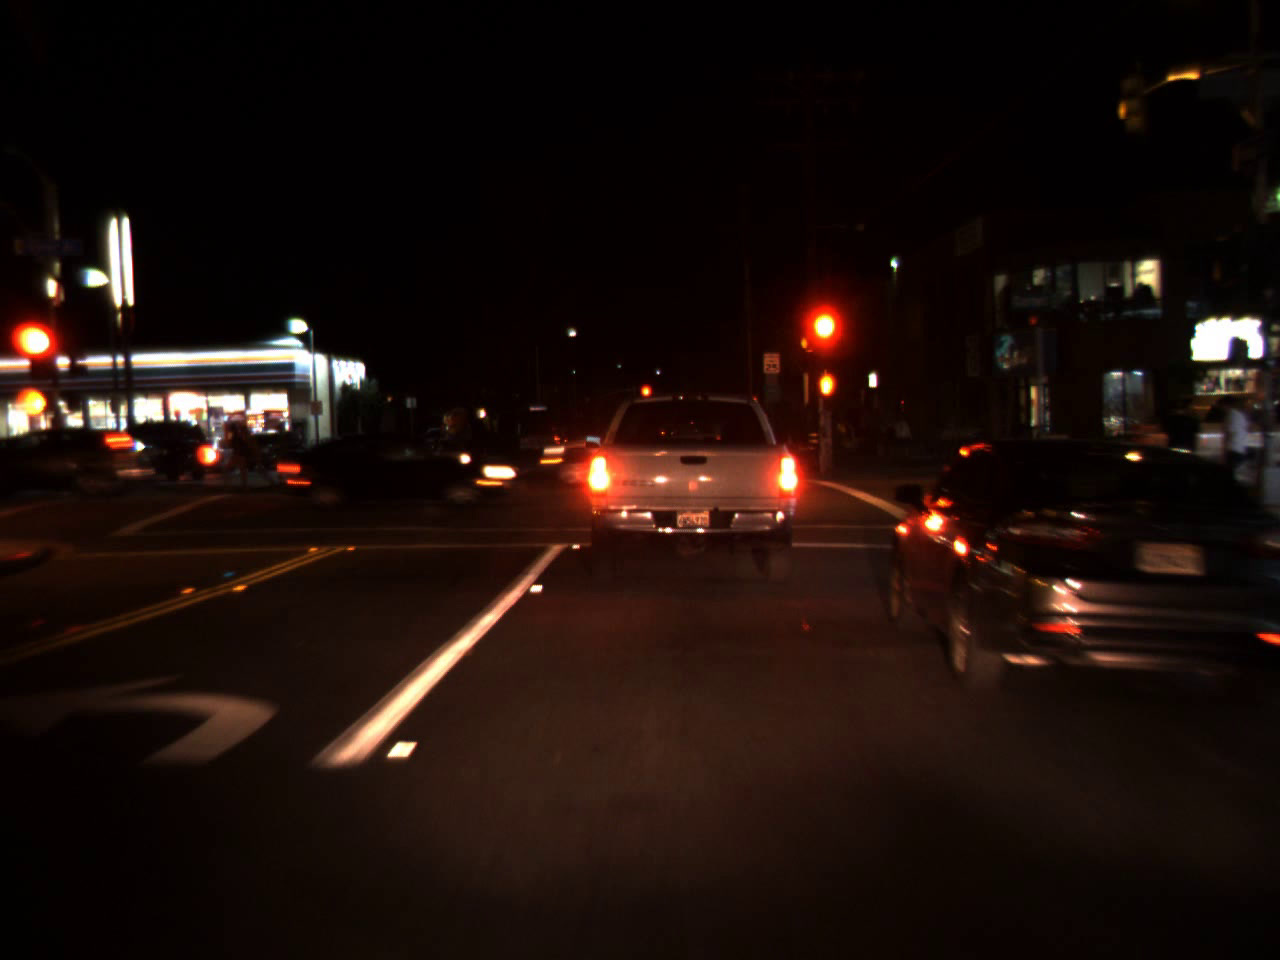stop: (804, 305, 843, 383), (14, 323, 56, 393), (639, 383, 652, 410)
